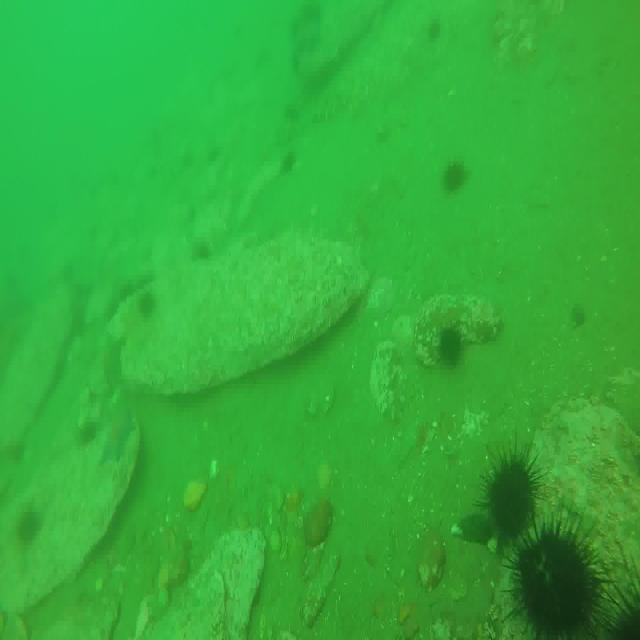echinus: (509, 530, 592, 640), (484, 449, 534, 539), (601, 571, 640, 640), (437, 326, 465, 370), (19, 508, 47, 552), (444, 159, 468, 195), (137, 287, 159, 323), (280, 145, 298, 173), (429, 16, 444, 44)
scallop: (416, 522, 449, 590), (302, 497, 333, 545), (182, 474, 208, 513)
starfish: (98, 410, 137, 464)
